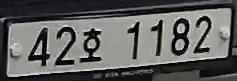1: (124, 19, 146, 61), (147, 17, 168, 61)
2: (53, 25, 77, 66), (191, 14, 215, 55)
4: (25, 26, 52, 69)
8: (168, 15, 192, 58)
호: (79, 28, 105, 65)
